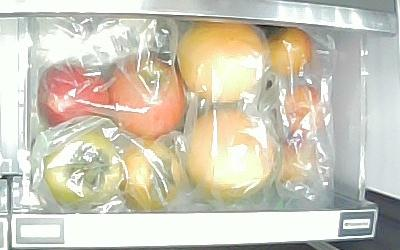apple_vinyl: (107, 57, 184, 138), (36, 62, 110, 131)
grapefruit_vinyl: (181, 106, 278, 202), (175, 18, 271, 103)
persimmon_vinyl: (43, 131, 124, 208), (120, 138, 183, 212)
prune_vinyl: (279, 82, 328, 138), (266, 26, 314, 78), (280, 140, 328, 187)
